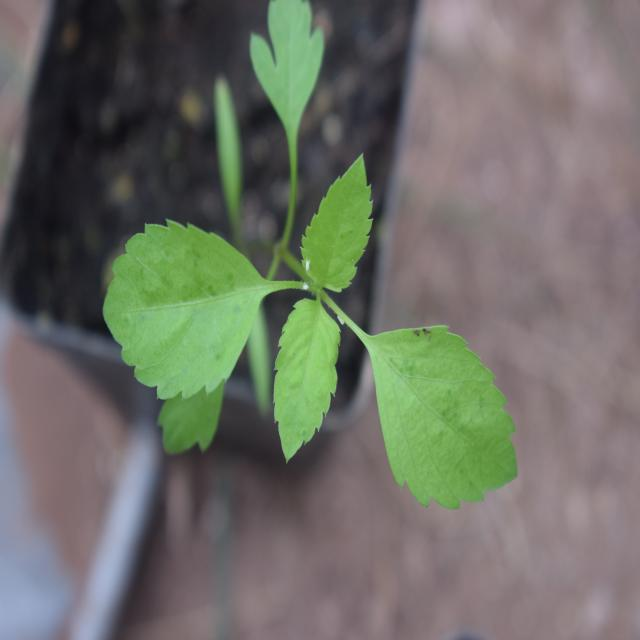Bidens pilosa: (109, 43, 523, 523)
